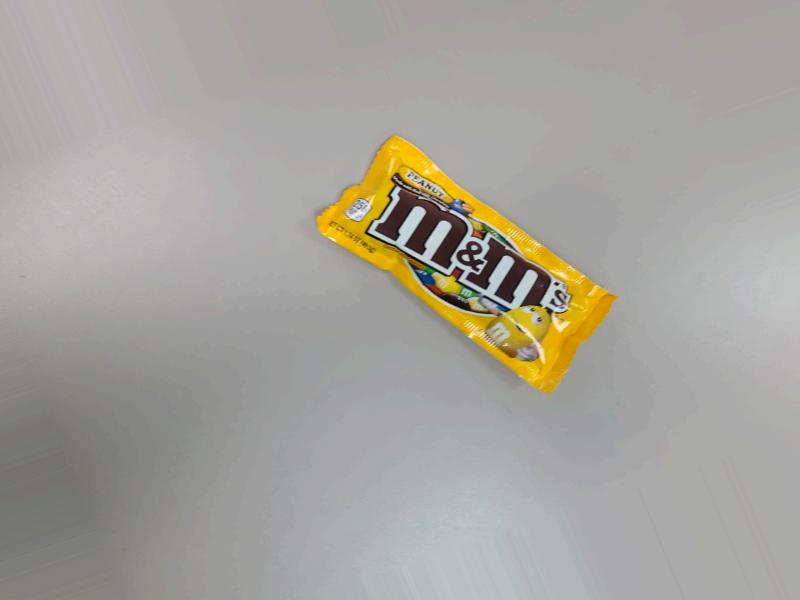m&m: (284, 147, 627, 408)
